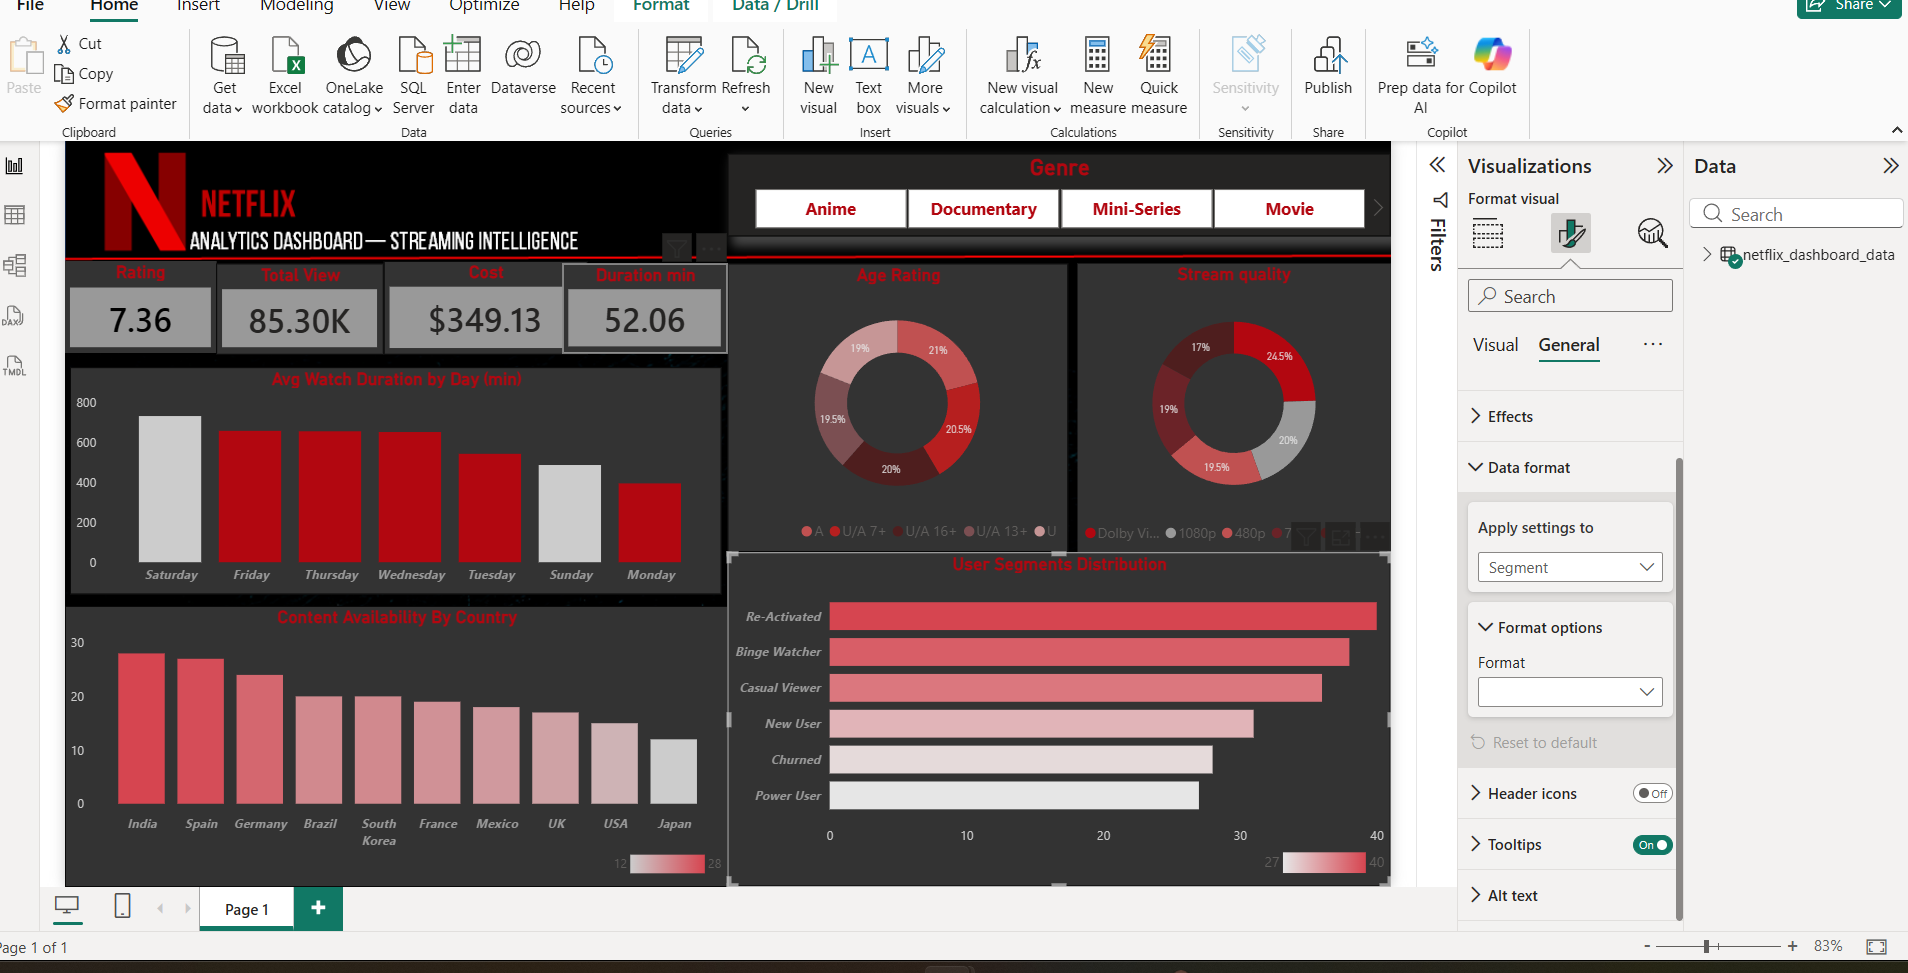

The dashboard page shown, as its layout file describes it:
{"tool":"powerbi","page":{"name":"Page 1","canvas":[1280,720],"ordinal":0},"visuals":[{"type":"donutChart","title":"Age Rating","fields":{"Category":["netflix_dashboard_data.Age_Rating"],"Y":["CountNonNull(netflix_dashboard_data.Age_Rating)"]},"box":[640,118.8,328.8,278.8],"z":0},{"type":"slicer","title":"Genre","fields":{"Values":["netflix_dashboard_data.Content_Type"]},"box":[640,12.5,640,80],"z":1000},{"type":"columnChart","title":"Avg Watch Duration by Day (min)","fields":{"Y":["Sum(netflix_dashboard_data.Avg_Weekly_Watch_Hours)"],"Category":["netflix_dashboard_data.Day_of_Week"]},"box":[4.8,218.4,628.6,219.6],"z":2000},{"type":"donutChart","title":"Stream quality","fields":{"Category":["netflix_dashboard_data.Stream_Quality"],"Y":["CountNonNull(netflix_dashboard_data.Age_Rating)"]},"box":[977.5,118.8,302.5,278.8],"z":3000},{"type":"cardVisual","title":"Rating","fields":{"Data":["Avg(netflix_dashboard_data.IMDB_Rating)"]},"box":[0,116.2,146.2,88.8],"z":5000},{"type":"cardVisual","title":"Total View","fields":{"Data":["Sum(netflix_dashboard_data.Total_Views_M)"]},"box":[146,118.2,161.7,88.1],"z":6000},{"type":"cardVisual","title":"Cost","fields":{"Data":["Sum(netflix_dashboard_data.Cost_To_Serve_USD)"]},"box":[307.6,115.8,196.6,90.5],"z":7000},{"type":"cardVisual","title":"Duration min","fields":{"Data":["Avg(netflix_dashboard_data.Watch_Duration_Min)"]},"box":[480.2,118.2,159.3,86.9],"z":8000},{"type":"barChart","title":"User Segments  Distribution","fields":{"Category":["netflix_dashboard_data.Segment"],"Y":["CountNonNull(netflix_dashboard_data.Segment)"]},"box":[640,397.5,640,322.5],"z":10000},{"type":"clusteredColumnChart","title":"Content Availability By Country","fields":{"Category":["netflix_dashboard_data.Country"],"Y":["CountNonNull(netflix_dashboard_data.City)"]},"box":[0,448.8,640,271.2],"z":11000}]}

Visuals, with their boxes on the page's 1280x720 design canvas (x1, y1, x2, y2). These are canvas units, not pixel positions in the 1908x973 screenshot, which may show the page scaled, cropped or inside an application window:
"Age Rating" donutChart: region(640, 119, 969, 398)
"Genre" slicer: region(640, 12, 1280, 92)
"Avg Watch Duration by Day (min)" columnChart: region(5, 218, 633, 438)
"Stream quality" donutChart: region(978, 119, 1280, 398)
"Rating" cardVisual: region(0, 116, 146, 205)
"Total View" cardVisual: region(146, 118, 308, 206)
"Cost" cardVisual: region(308, 116, 504, 206)
"Duration min" cardVisual: region(480, 118, 640, 205)
"User Segments  Distribution" barChart: region(640, 398, 1280, 720)
"Content Availability By Country" clusteredColumnChart: region(0, 449, 640, 720)
